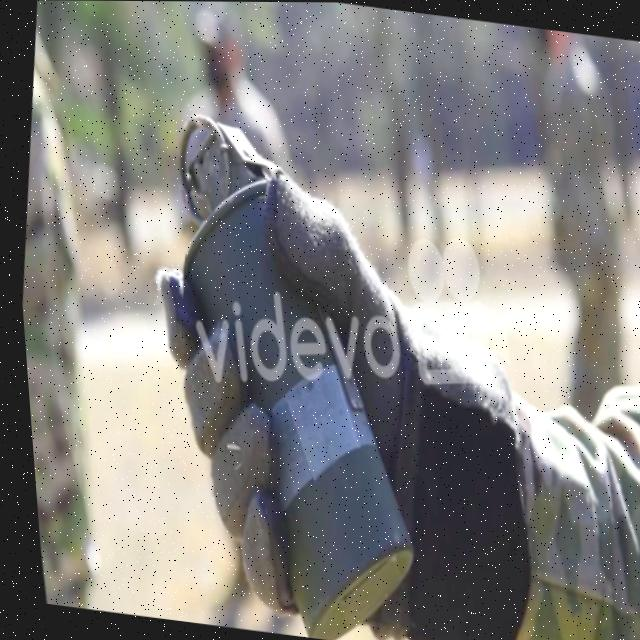grenade: (96, 84, 475, 640)
